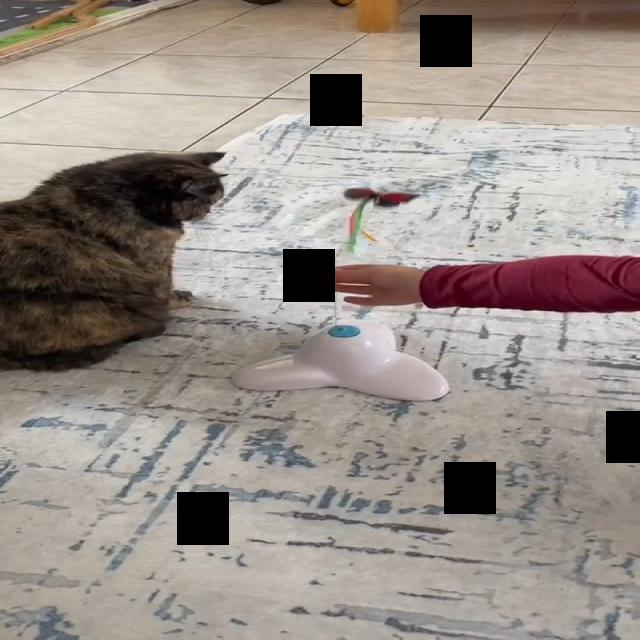authorized: (0, 150, 229, 372)
